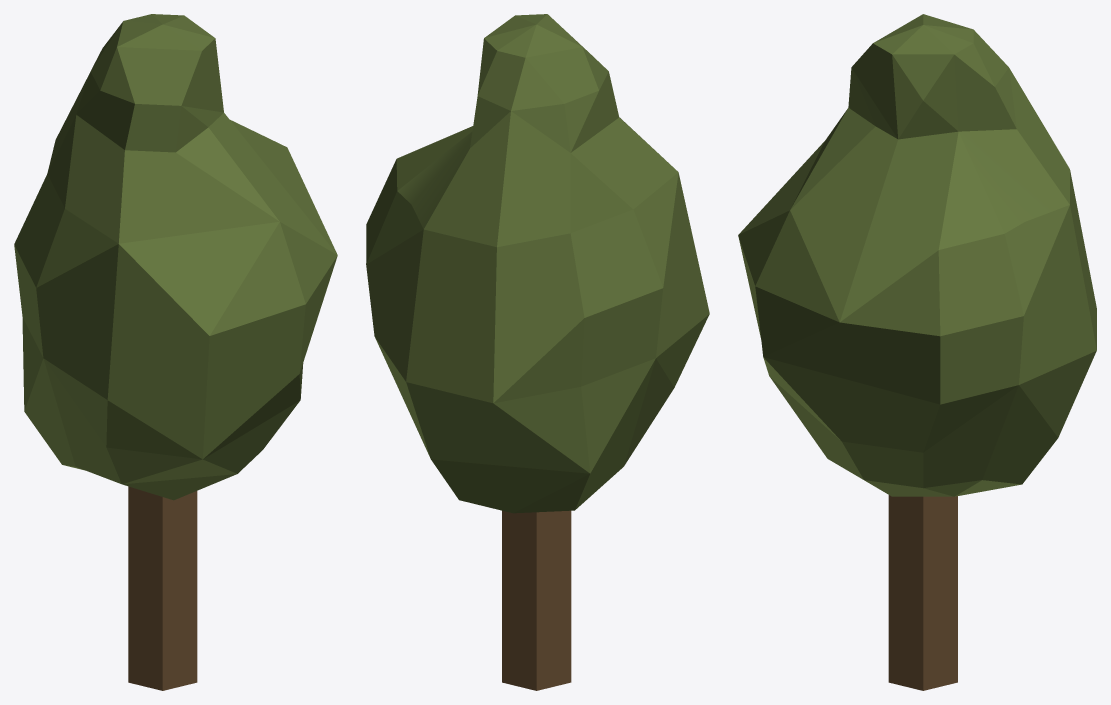
The model's file is springtree2.fbx.
3 renders of one model, left to right at view 1: azimuth 30°, elevation 25°; view 2: azimuth 150°, elevation 25°; view 3: azimuth 270°, elevation 25°, orthographic.
Parts seen in each view (by area): view 1: pSphere1, pCylinder1; view 2: pSphere1, pCylinder1; view 3: pSphere1, pCylinder1.
Boxes of the visible parts, box(x1,y1,x2,y2) form: pSphere1: box(14, 14, 337, 500); pCylinder1: box(128, 486, 197, 690); pSphere1: box(366, 14, 709, 513); pCylinder1: box(502, 510, 571, 690); pSphere1: box(738, 14, 1096, 496); pCylinder1: box(888, 495, 957, 690).
Bounding box in the file's own units: 8.32 × 17.92 × 8.97.
